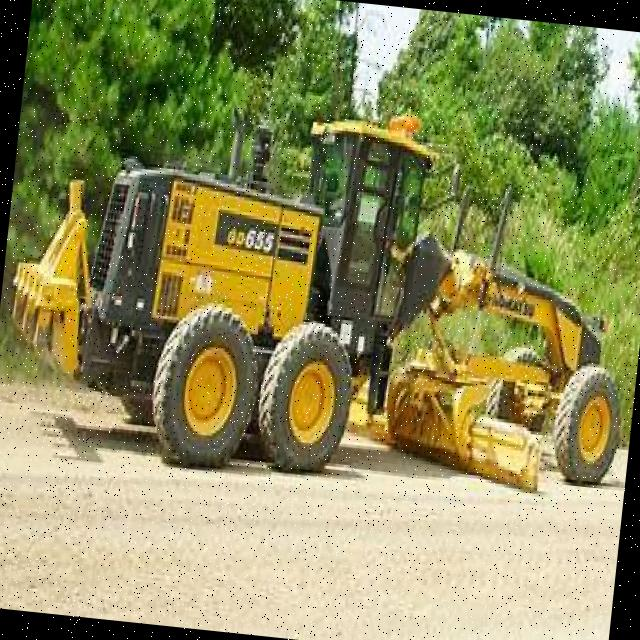Grader: (0, 59, 640, 522)
